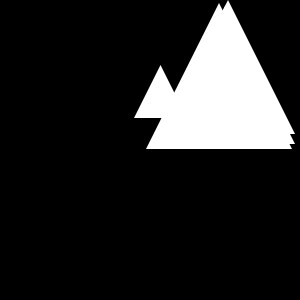triangle: (146, 3, 292, 149), (156, 5, 295, 144), (161, 0, 295, 134), (134, 65, 187, 118)
